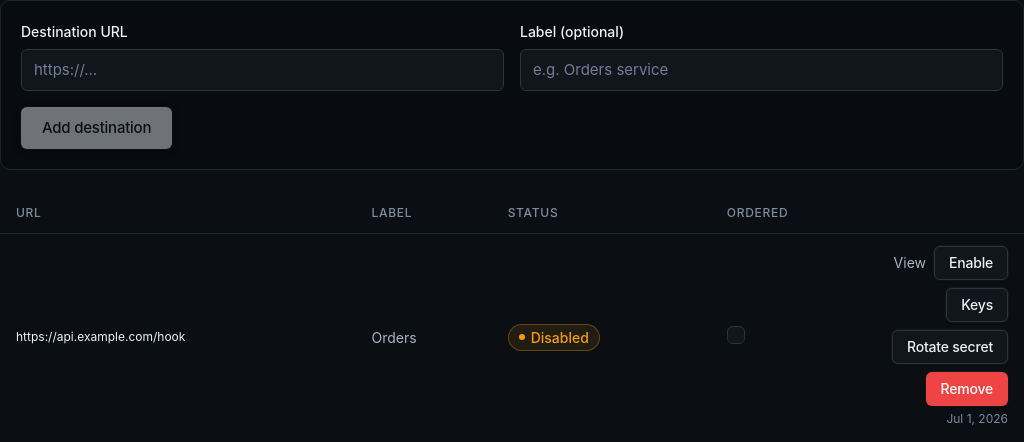
Test: ReplayDestinationsManager › shows Enable only for a disabled row and replaces it with the enabled record
expect the text "Disabled" is shown: met, box left=508, top=324, right=600, bottom=351
Click the button "Enable". click: [971, 263]
box: left=934, top=246, right=1008, bottom=280
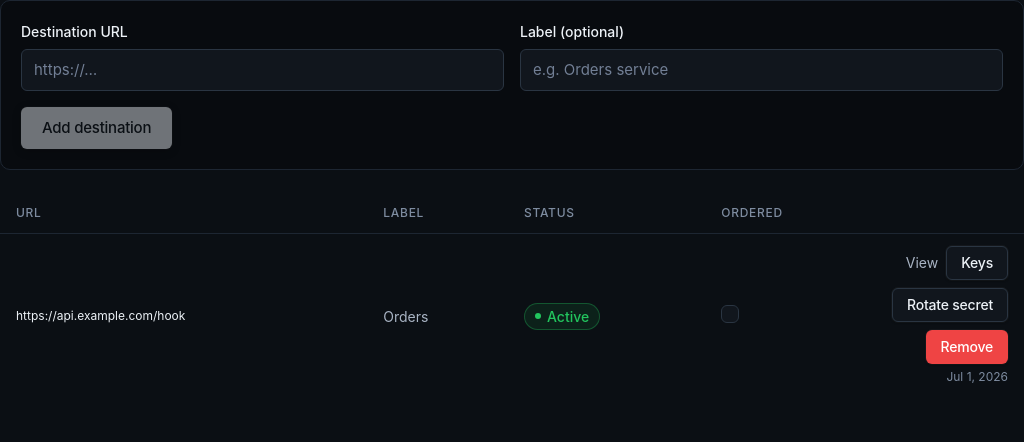
expect the text "Active" is shown: met, box left=524, top=303, right=600, bottom=330
expect the button "Enable" is gone: met
